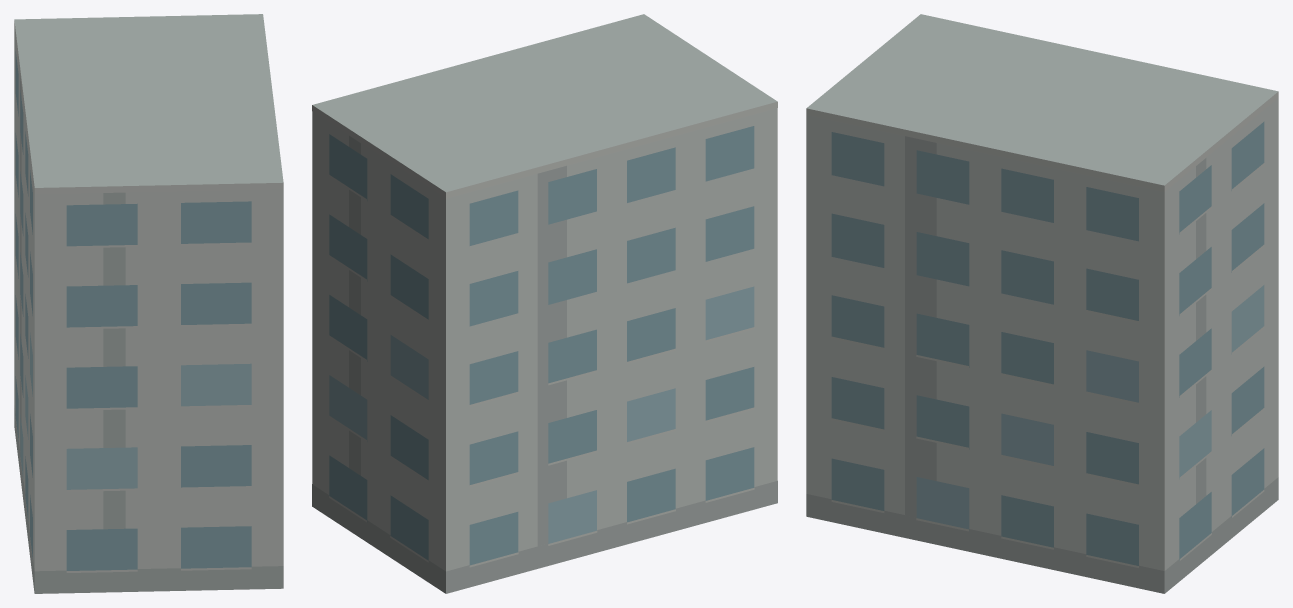
The model's file is residential-42e59412-2923-413b-a3ea-3833eecd7f5a.glb.
The picture shows the model from 3 angles, left to right: view 1: azimuth 30°, elevation 25°; view 2: azimuth 150°, elevation 25°; view 3: azimuth 270°, elevation 25°; orthographic projection.
Visible parts, largest first — view 1: residential-42e59412-2923-413b-a3ea-3833eecd7f5a.tmp; view 2: residential-42e59412-2923-413b-a3ea-3833eecd7f5a.tmp; view 3: residential-42e59412-2923-413b-a3ea-3833eecd7f5a.tmp.
Boxes of the visible parts, x1,y1,x2,y2 form: residential-42e59412-2923-413b-a3ea-3833eecd7f5a.tmp: (14,14,283,593); residential-42e59412-2923-413b-a3ea-3833eecd7f5a.tmp: (312,14,777,593); residential-42e59412-2923-413b-a3ea-3833eecd7f5a.tmp: (806,14,1278,593).
Size of the model in its own units: 13.75 by 15.25 by 16.
